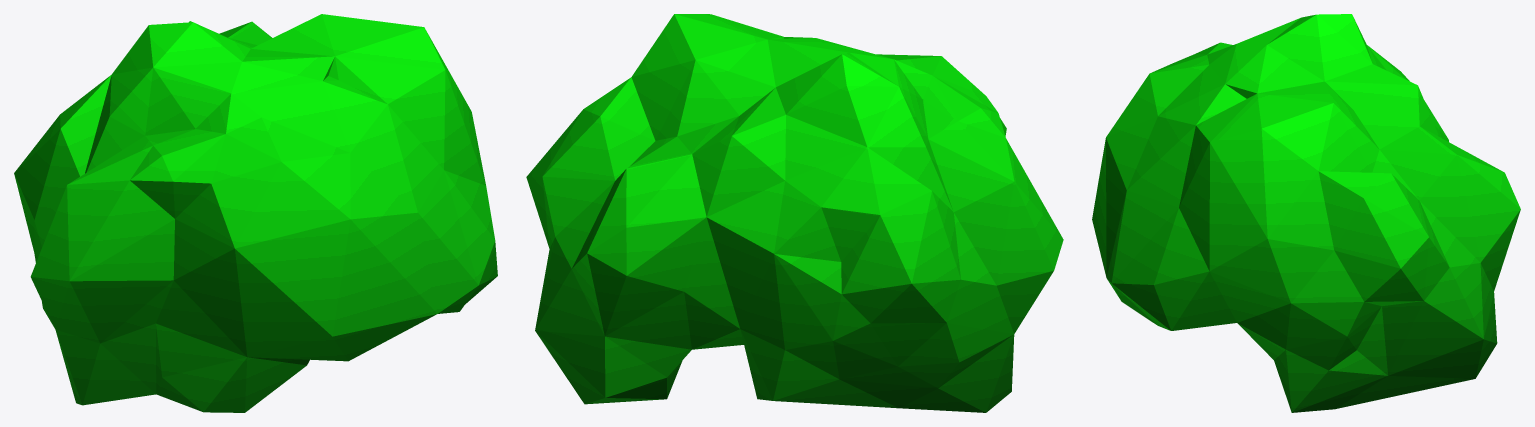
File: Prefab_Foliage_Tree_Elm_Leaves.glb
The picture shows the model from 3 angles, left to right: view 1: azimuth 30°, elevation 25°; view 2: azimuth 150°, elevation 25°; view 3: azimuth 270°, elevation 25°; orthographic projection. The views are drawn at different scales.
Visible parts, largest first — view 1: ElmTree_B_Trunk.001; view 2: ElmTree_B_Trunk.001; view 3: ElmTree_B_Trunk.001.
Boxes of the visible parts, bbox=[...] form: ElmTree_B_Trunk.001: bbox=[14, 14, 497, 412]; ElmTree_B_Trunk.001: bbox=[526, 14, 1063, 412]; ElmTree_B_Trunk.001: bbox=[1092, 14, 1520, 412].
Size of the model in its own units: 16.85 by 12.02 by 15.4.
1 material, 1 textured.
